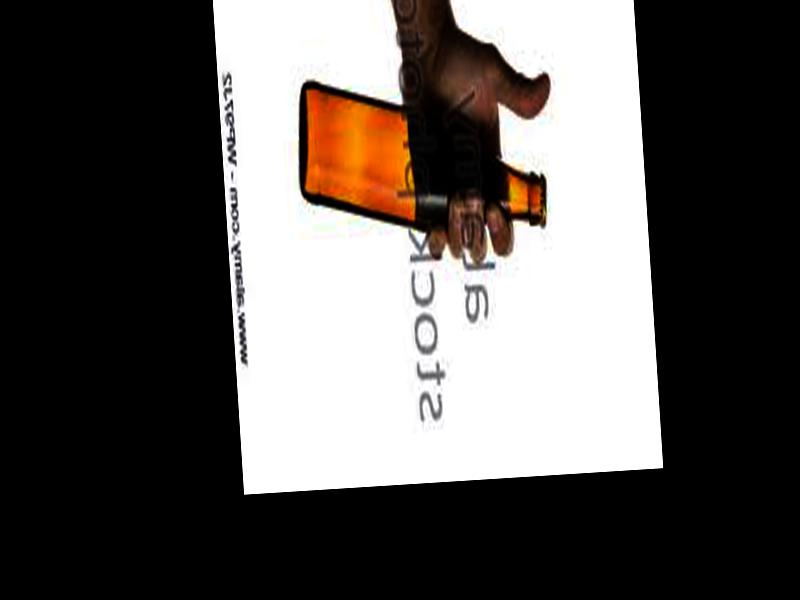Beer: (295, 65, 546, 245)
